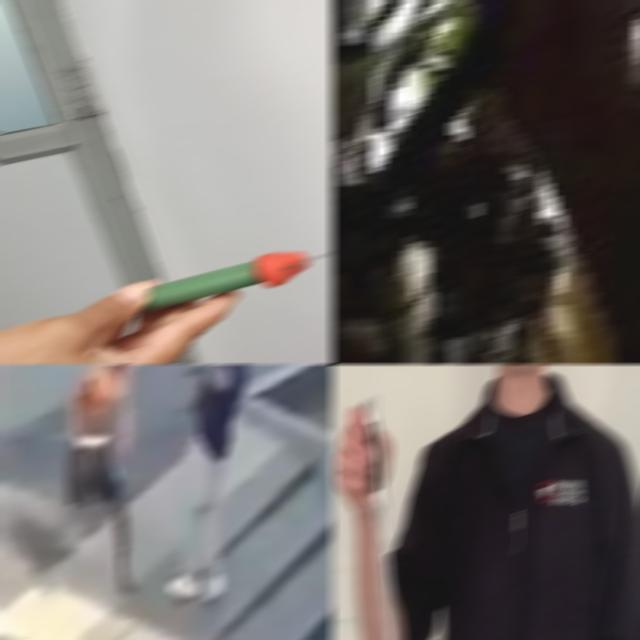Knife: (141, 250, 334, 310)
Knife_Handle: (330, 0, 640, 258), (333, 392, 402, 640), (68, 433, 110, 446), (74, 435, 110, 447)
